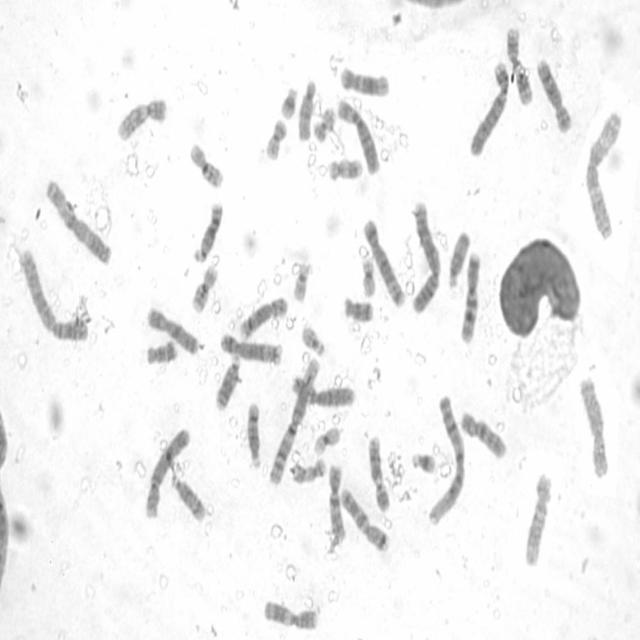A1: (268, 354, 320, 486), (426, 390, 466, 529)
A2: (18, 245, 90, 344), (408, 198, 442, 315)
A3: (42, 175, 113, 267), (582, 108, 624, 242)
B4: (143, 423, 192, 520), (467, 57, 510, 159)
B5: (362, 217, 406, 308), (218, 330, 282, 366)
C10: (458, 407, 507, 460), (327, 460, 347, 543)
C11: (504, 24, 533, 106), (262, 596, 320, 631)
C12: (522, 470, 552, 568), (338, 64, 391, 98)
C6: (335, 96, 380, 176), (289, 373, 356, 409)
C7: (338, 484, 389, 554), (458, 250, 481, 346)
C8: (534, 55, 574, 134), (238, 294, 289, 340)
C9: (115, 94, 168, 143), (366, 432, 391, 513)
D13: (190, 200, 224, 266), (213, 351, 242, 412)
D14: (169, 472, 206, 524), (245, 400, 262, 470)
D15: (446, 226, 472, 291), (296, 78, 317, 142)
E16: (187, 140, 224, 190), (190, 262, 218, 315)
E17: (289, 454, 327, 485), (326, 155, 363, 183)
E18: (342, 292, 374, 324), (144, 338, 178, 366)
F19: (312, 424, 341, 458), (360, 251, 376, 298)
F20: (263, 116, 288, 162), (312, 105, 336, 143)
G21: (278, 83, 298, 122), (410, 449, 437, 476)
G22: (300, 322, 326, 357), (291, 260, 312, 303)
X: (572, 375, 612, 477), (144, 303, 200, 357)
